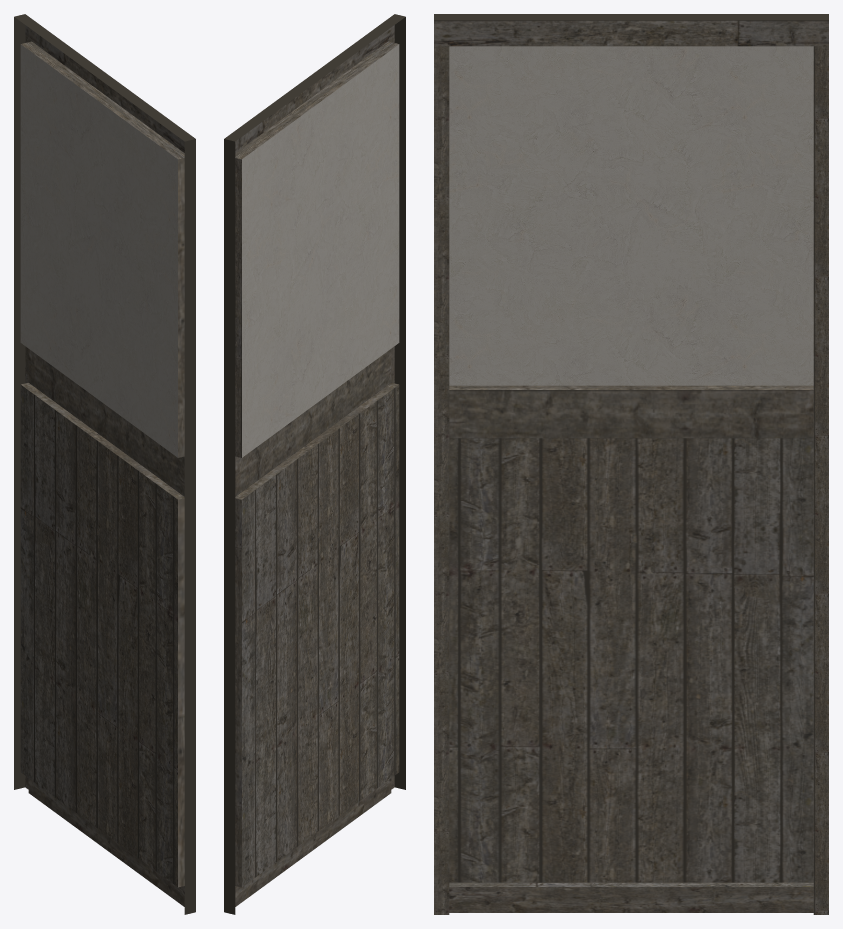
File: Wall4.fbx
3 renders of one model, left to right at view 1: azimuth 30°, elevation 25°; view 2: azimuth 150°, elevation 25°; view 3: azimuth 270°, elevation 25°, orthographic. The views are drawn at different scales.
Visible parts, largest first — view 1: inner wall; view 2: inner wall; view 3: inner wall.
Boxes of the visible parts, x1=… form: inner wall: x1=14, y1=14, x2=195, y2=914; inner wall: x1=224, y1=14, x2=405, y2=914; inner wall: x1=434, y1=14, x2=828, y2=914.
Bounding box in the file's own units: 7.56 × 500 × 200.
